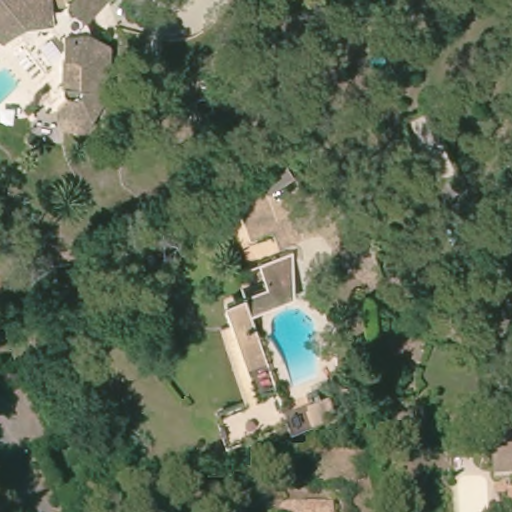pool: (266, 305, 327, 386), (1, 63, 18, 116)
